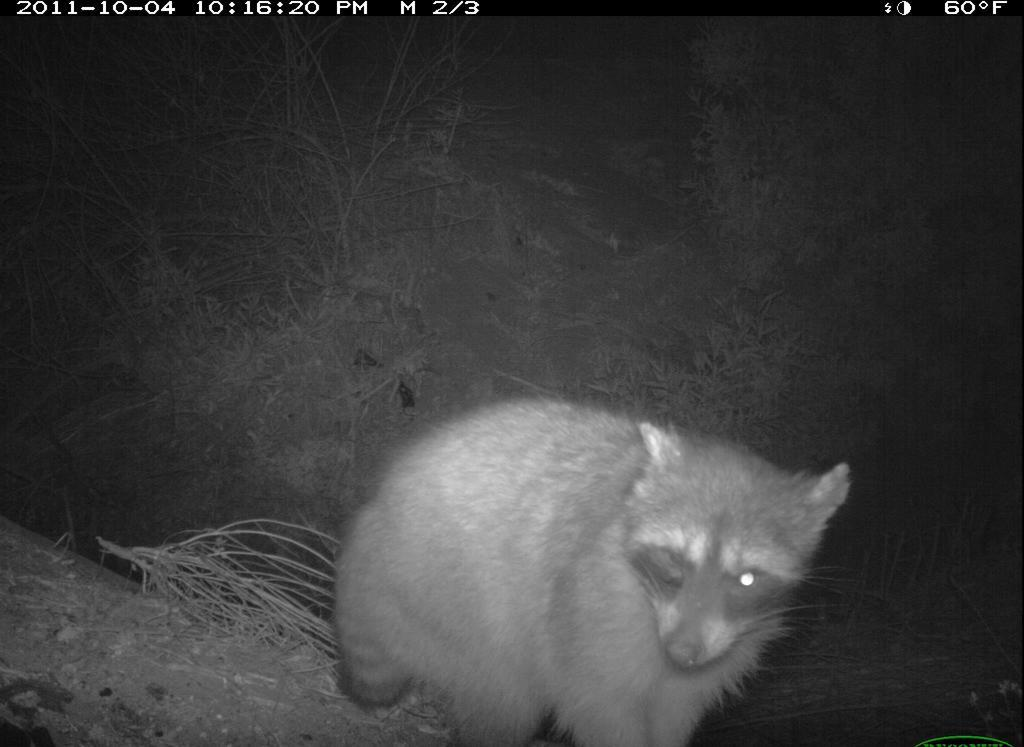raccoon: (297, 369, 868, 745)
